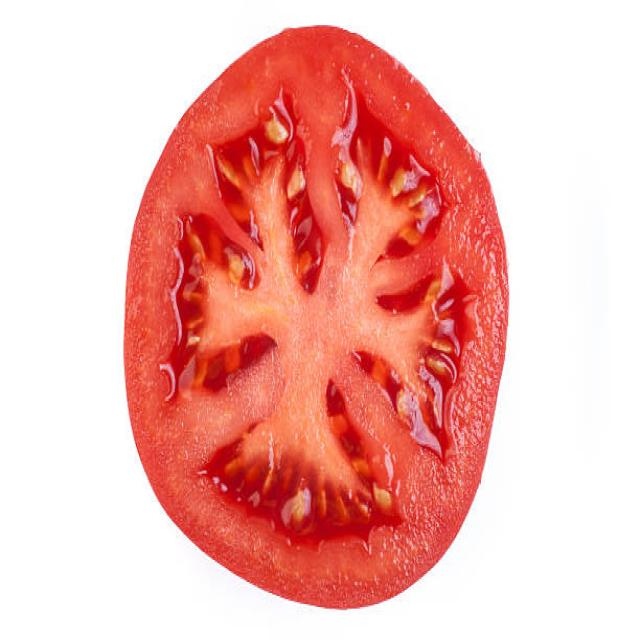Tomato: (127, 16, 502, 629)
